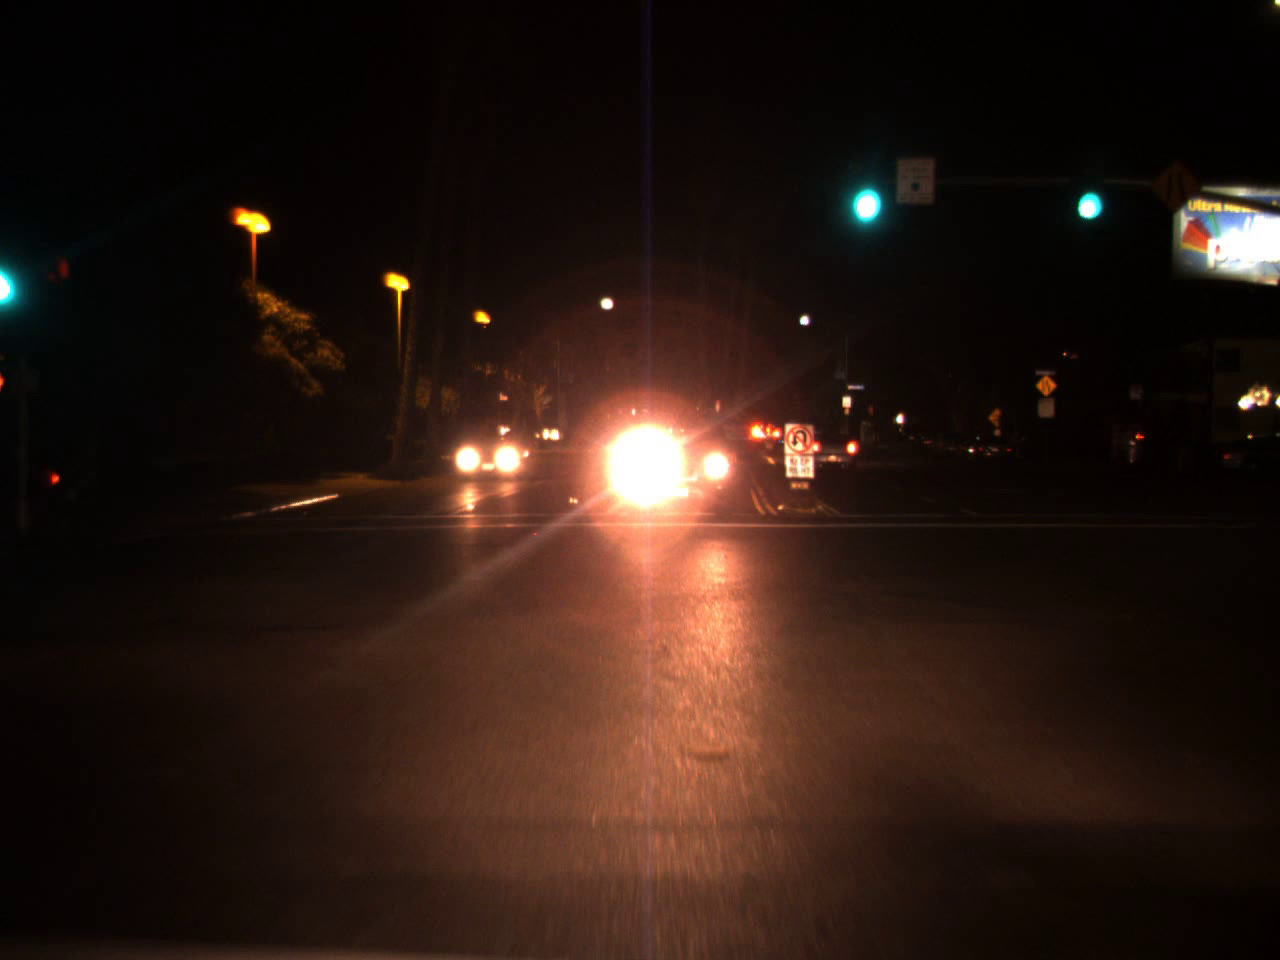go: (842, 147, 883, 234), (1069, 158, 1106, 230), (0, 229, 15, 319)
